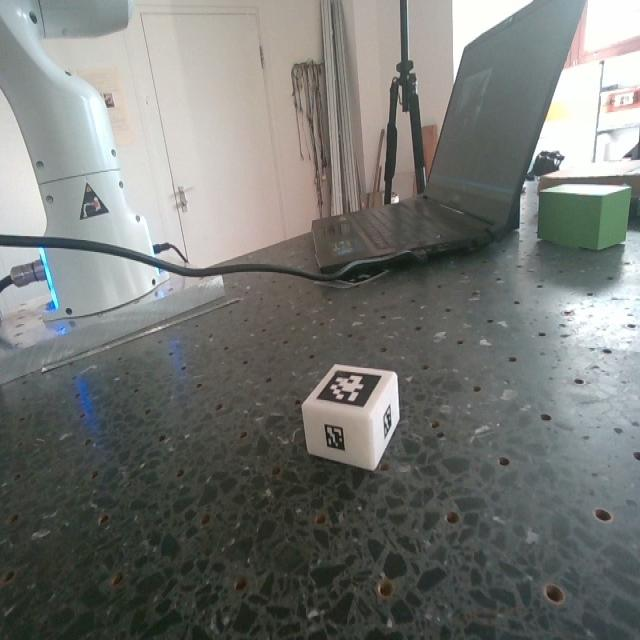Cube: (300, 362, 404, 469)
